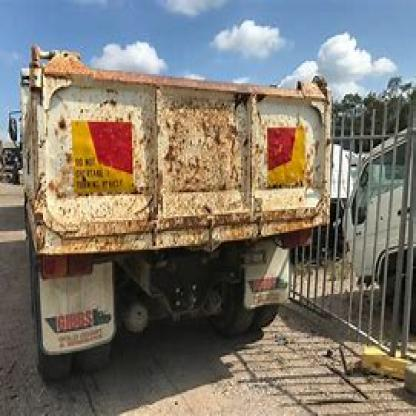dump_truck: (11, 31, 342, 383)
